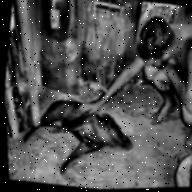boar: (33, 91, 145, 181)
